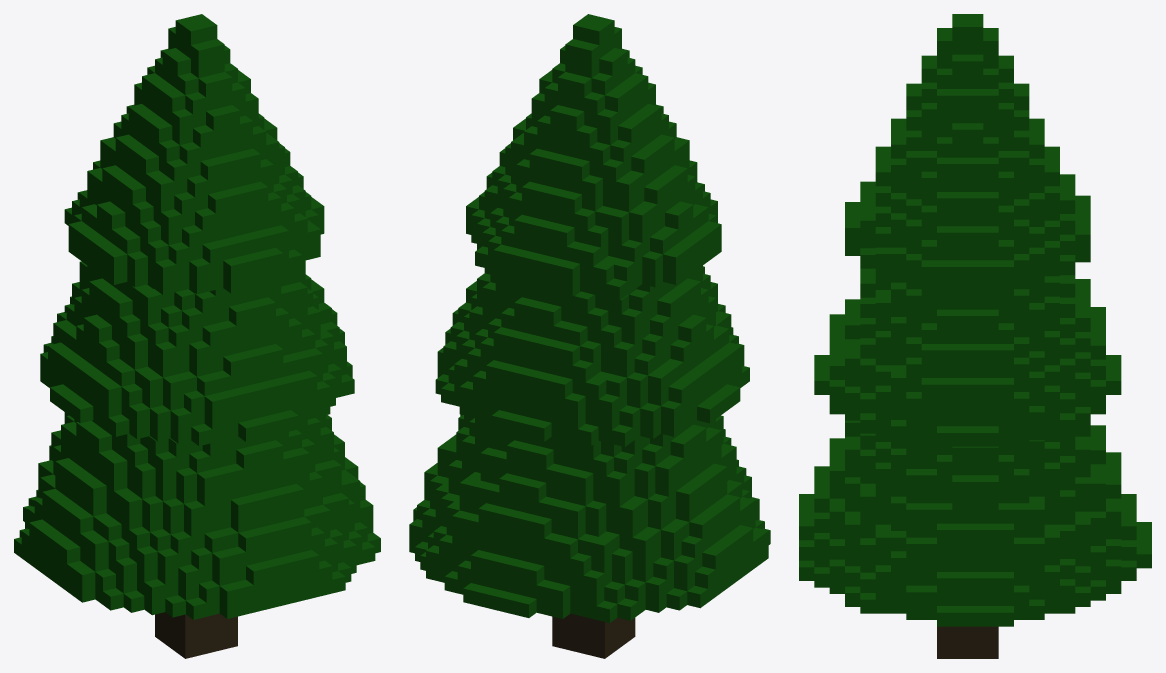
File: songshu1.obj
The picture shows the model from 3 angles, left to right: view 1: azimuth 30°, elevation 25°; view 2: azimuth 150°, elevation 25°; view 3: azimuth 270°, elevation 25°; orthographic projection.
Size of the model in its own units: 2.3 by 4.5 by 2.3.
Materials: 1 (1 with a texture image).
